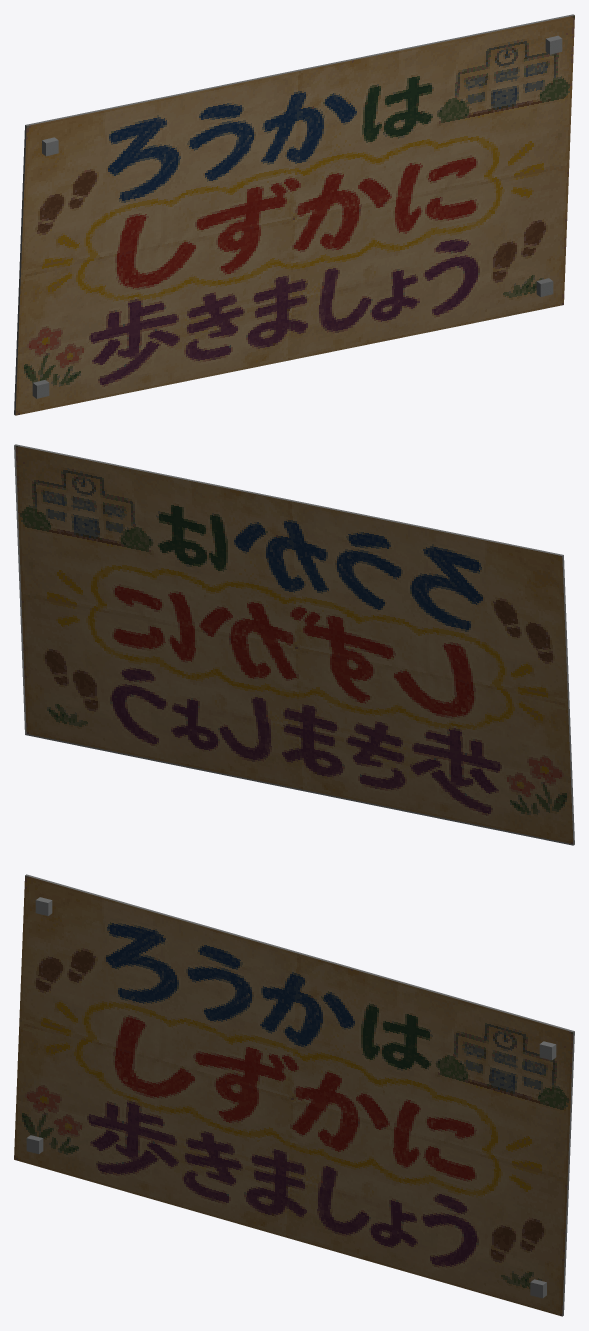
File: prop_poster-rouka-1.glb
3 views of the same model, one above another, from view 1: azimuth 30°, elevation 25°; view 2: azimuth 150°, elevation 25°; view 3: azimuth 330°, elevation 25° (orthographic).
Parts seen in each view (by area): view 1: prop_poster-rouka-1; view 2: prop_poster-rouka-1; view 3: prop_poster-rouka-1.
Boxes of the visible parts, x1=… form: prop_poster-rouka-1: x1=14, y1=14, x2=574, y2=415; prop_poster-rouka-1: x1=14, y1=444, x2=574, y2=845; prop_poster-rouka-1: x1=14, y1=874, x2=574, y2=1316.
Bounding box in the file's own units: 0.6263 × 0.3317 × 0.0115.
2 materials, 2 textured.
